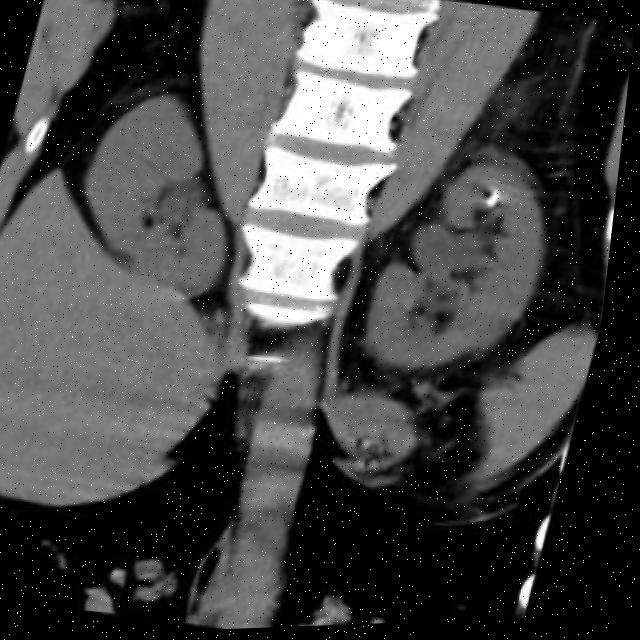Tas_Var: (490, 202, 505, 215), (496, 193, 508, 204)
